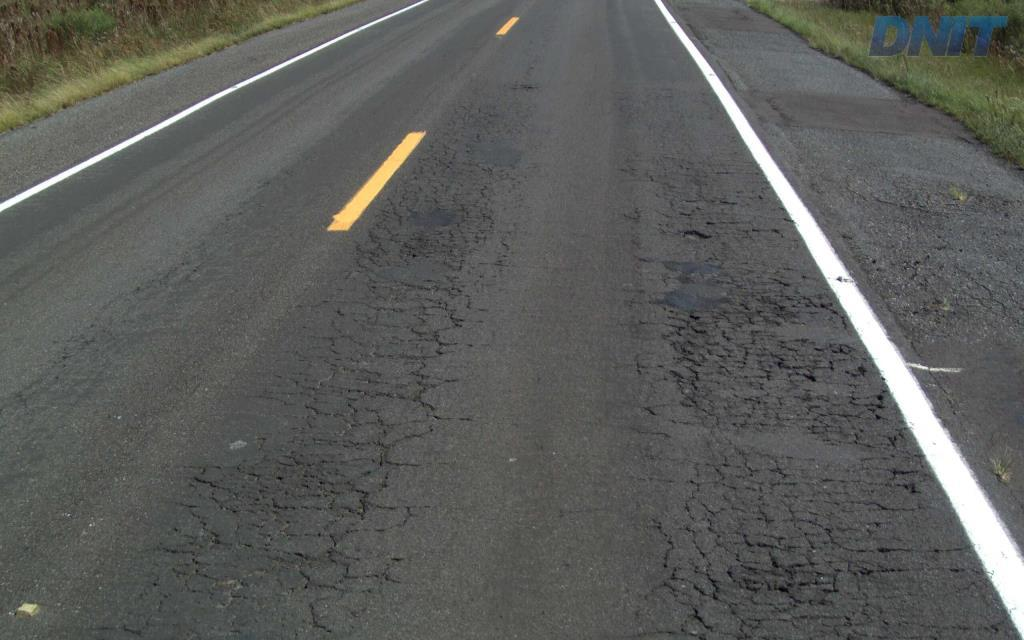crack: (275, 450, 373, 520), (725, 550, 842, 607), (692, 558, 765, 630), (669, 341, 719, 425), (189, 475, 261, 509), (769, 351, 835, 382), (842, 558, 909, 582), (398, 230, 439, 265)
